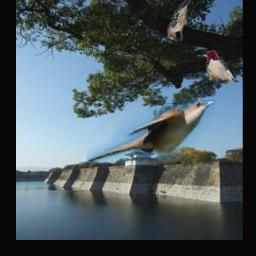Cuckoo: (86, 99, 214, 163)
Woodpecker: (201, 50, 241, 82), (167, 0, 190, 43)
